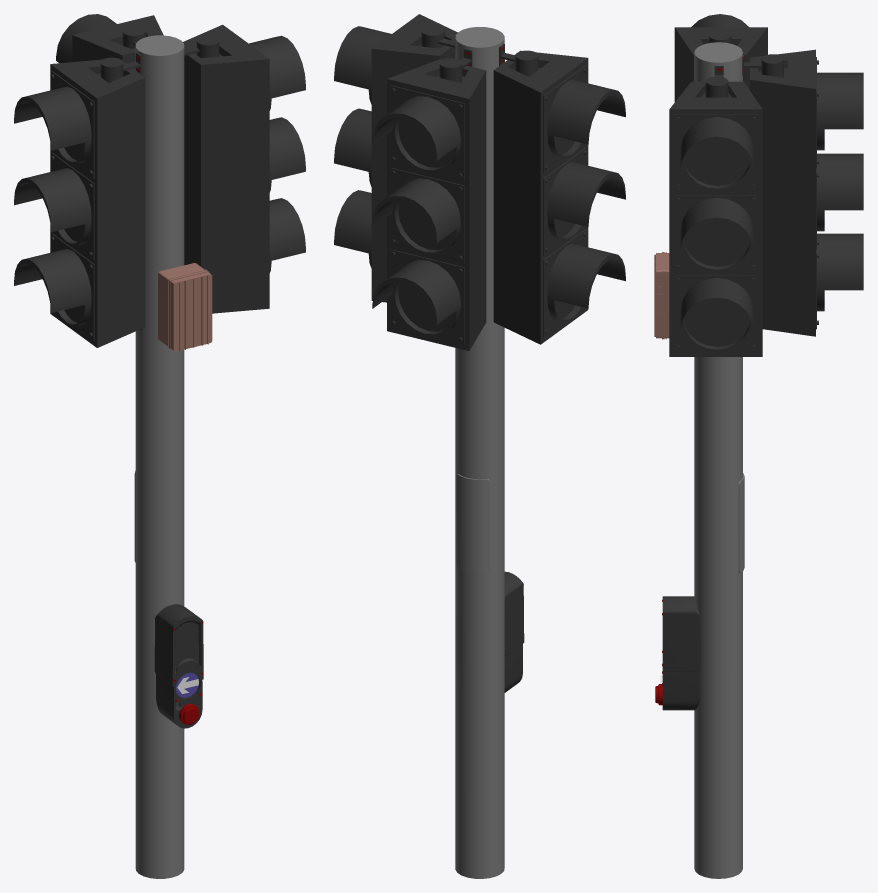
The model's file is Trafficlight.fbx.
The picture shows the model from 3 angles, left to right: view 1: azimuth 30°, elevation 25°; view 2: azimuth 150°, elevation 25°; view 3: azimuth 270°, elevation 25°; orthographic projection.
Parts seen in each view (by area): view 1: pCube4 (×3), pCylinder2, pCylinder6 (×3), pCylinder29 (×2), pCylinder11 (×2), pCube10, pCube3, body, pCube34, pCube29, pCube8; view 2: pCylinder2, pCube4 (×3), pCylinder6 (×3), pCylinder11 (×3), pCylinder29 (×3), pCube29 (×2), pCube34 (×2), pCube8 (×2), pCylinder26, pCylinder5, pCylinder12, pCube3 (+1 smaller); view 3: pCylinder2, pCube4 (×3), pCylinder6 (×3), pCylinder11 (×2), pCylinder29 (×2), pCube3, pCylinder12, pCylinder5, pCylinder26, pCube34, pCube8, pCube29 (+3 smaller).
Part boxes in pixels (<box>): pCube4 (×3): <box>50,15,269,347</box>; pCylinder2: <box>134,35,184,878</box>; pCylinder6 (×3): <box>14,14,305,150</box>; pCylinder29 (×2): <box>14,198,305,312</box>; pCylinder11 (×2): <box>14,117,305,232</box>; pCube10: <box>158,263,212,351</box>; pCube3: <box>154,604,203,686</box>; body: <box>156,669,202,728</box>; pCube34: <box>51,71,94,178</box>; pCube29: <box>51,152,94,260</box>; pCube8: <box>51,233,94,340</box>; pCylinder2: <box>455,27,504,878</box>; pCube4 (×3): <box>371,14,588,350</box>; pCylinder6 (×3): <box>334,26,625,160</box>; pCylinder11 (×3): <box>334,108,625,242</box>; pCylinder29 (×3): <box>334,190,625,324</box>; pCube29 (×2): <box>390,147,586,263</box>; pCube34 (×2): <box>390,65,586,180</box>; pCube8 (×2): <box>390,229,586,344</box>; pCylinder26: <box>392,282,460,336</box>; pCylinder5: <box>392,118,460,172</box>; pCylinder12: <box>392,200,460,255</box>; pCube3: <box>504,571,524,655</box>; pCylinder2: <box>694,42,744,878</box>; pCube4 (×3): <box>669,27,815,356</box>; pCylinder6 (×3): <box>680,14,863,172</box>; pCylinder11 (×2): <box>680,153,863,253</box>; pCylinder29 (×2): <box>680,233,863,333</box>; pCube3: <box>662,596,700,671</box>; pCylinder12: <box>682,222,752,272</box>; pCylinder5: <box>682,141,752,191</box>; pCylinder26: <box>682,302,752,352</box>; pCube34: <box>674,114,757,190</box>; pCube8: <box>674,275,757,351</box>; pCube29: <box>674,195,757,271</box>.
Size of the model in its own units: 138 by 427 by 99.33.
